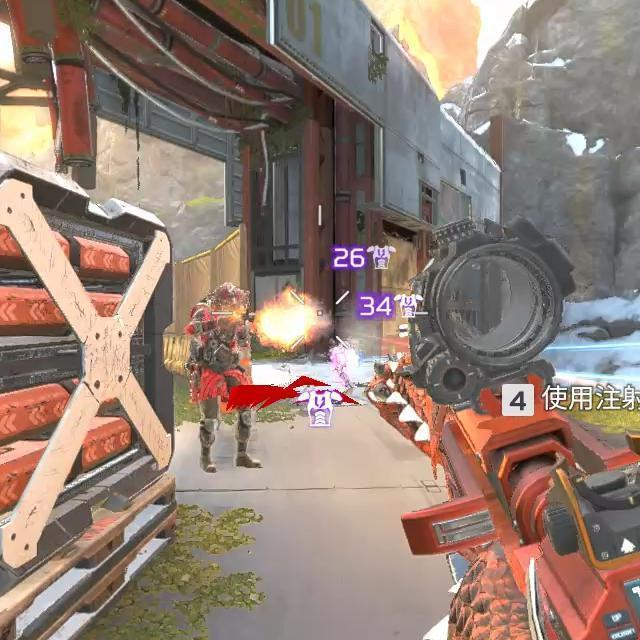avatar: (183, 282, 254, 472)
